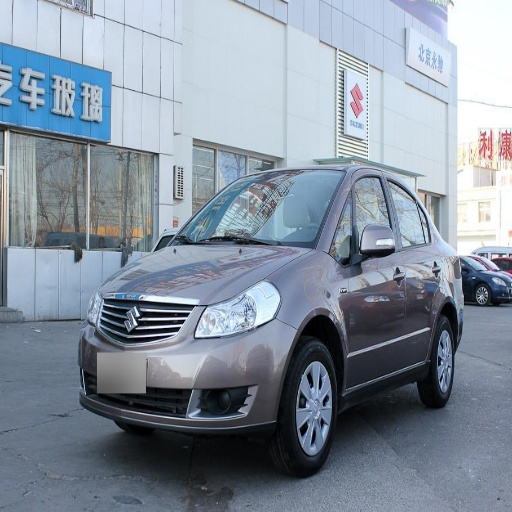front_bumper: (79, 296, 296, 429)
front_glass: (156, 172, 344, 249)
front_left_door: (336, 170, 406, 387)
